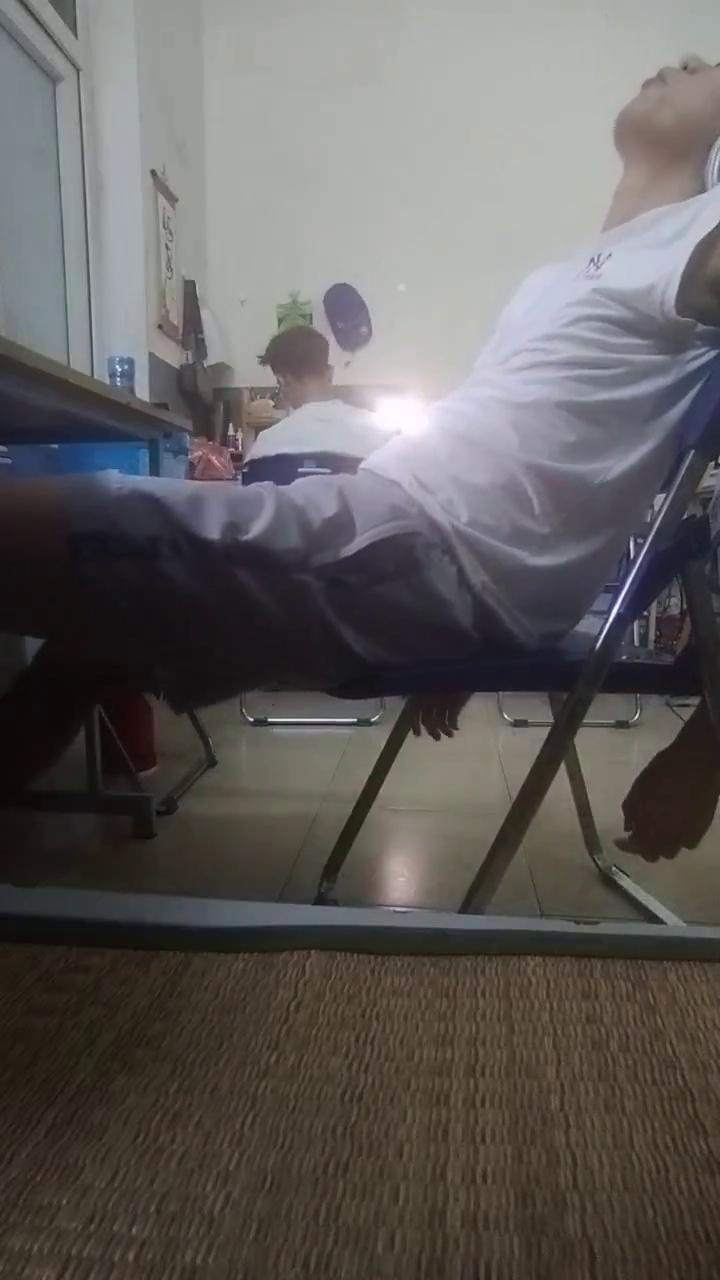BadPosture: (0, 60, 719, 804)
